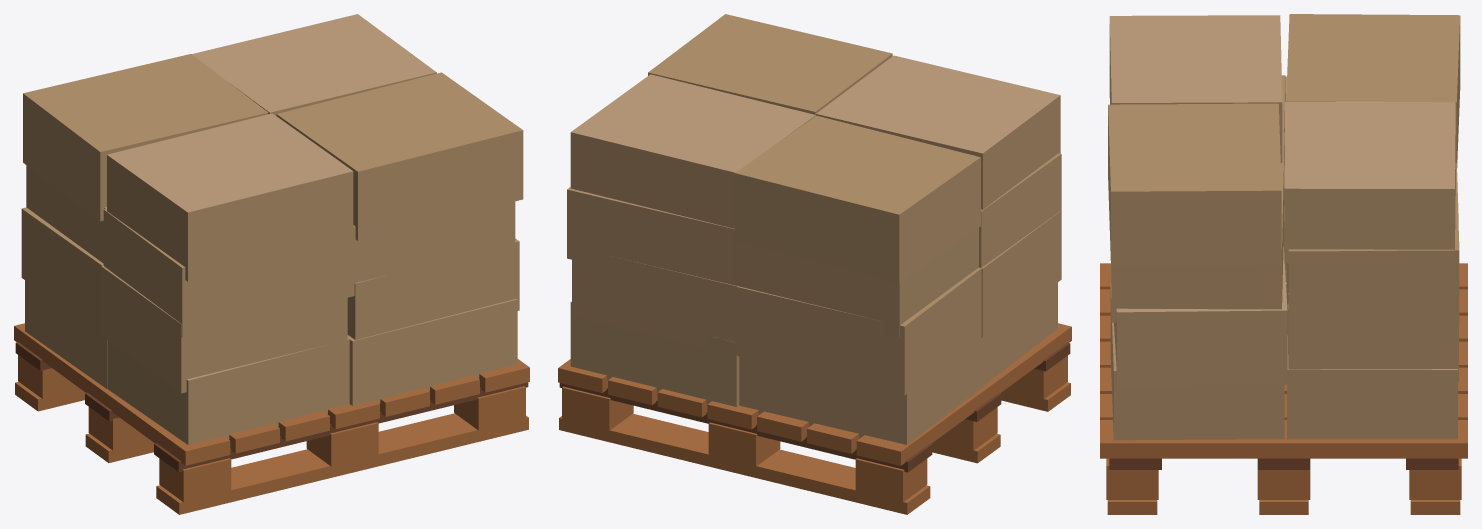
3 renders of one model, left to right at view 1: azimuth 30°, elevation 25°; view 2: azimuth 150°, elevation 25°; view 3: azimuth 270°, elevation 25°, orthographic. The views are drawn at different scales.
Parts seen in each view (by area): view 1: body, pal_woodWarm, pal_khakiLight, pal_leatherShadow; view 2: body, pal_woodWarm, pal_khakiLight, pal_leatherShadow; view 3: body, pal_khakiLight, pal_woodWarm, pal_leatherShadow.
Boxes of the visible parts, box(x1,y1,x2,y2) form: body: box(21, 54, 523, 444); pal_woodWarm: box(14, 323, 529, 514); pal_khakiLight: box(104, 14, 518, 380); pal_leatherShadow: box(15, 342, 528, 472); body: box(567, 14, 1061, 444); pal_woodWarm: box(558, 323, 1071, 514); pal_khakiLight: box(571, 55, 1060, 341); pal_leatherShadow: box(559, 342, 1070, 472); body: box(1108, 14, 1460, 440); pal_khakiLight: box(1109, 15, 1457, 369); pal_woodWarm: box(1100, 263, 1467, 514); pal_leatherShadow: box(1109, 457, 1458, 469).
Size of the model in its own units: 1.4 by 1.15 by 1.19.
